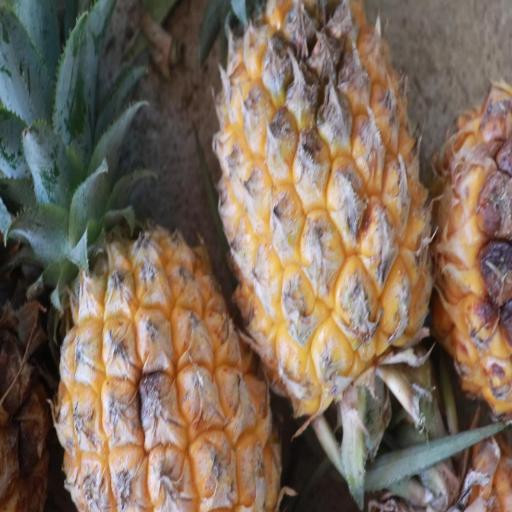Pineapple - v8 v1: (50, 0, 290, 512), (211, 2, 441, 430)
